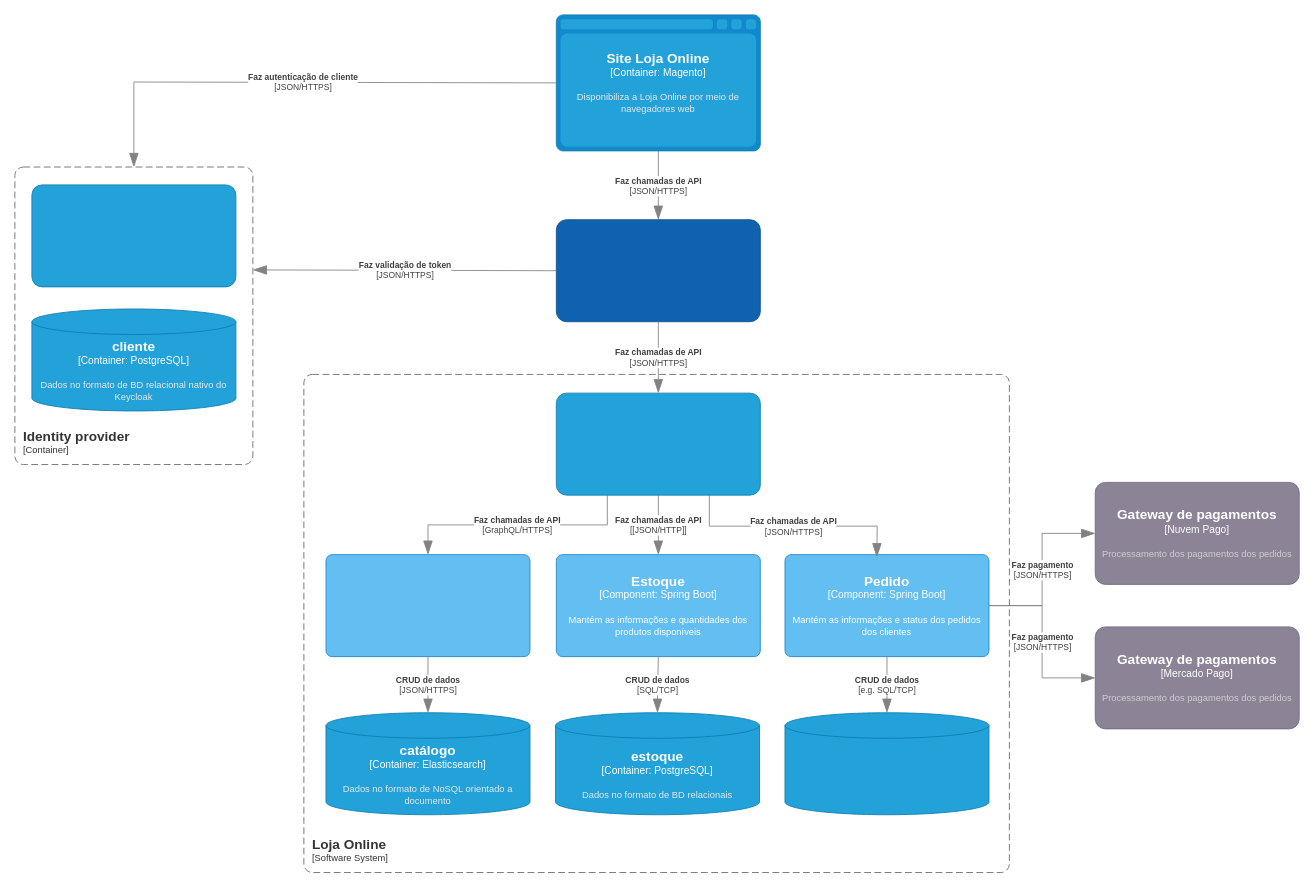
This 1314x887 diagram has some shape labels left out. The shapes that lost their labels are listed below. From the top down, each one's centre as x and y in pixels, then its label:
At point (133, 235): "Cliente [Container: Keycloak] Mantém a conta e as informações dos clientes".
At point (657, 270): "API gateway [Apache APISIX] Gerenciamento e segurança da APIs".
At point (657, 443): "BFF [Container: Node.js] Customização da integração entre backend e frontend".
At point (427, 605): "Catálogo [Component: Node.js] Mostra as informações dos produtos".
At point (886, 763): "pedidos [Container: PostgreSQL] Dados no formato de BD relacionais".
